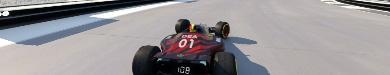Car: (131, 18, 238, 74)
